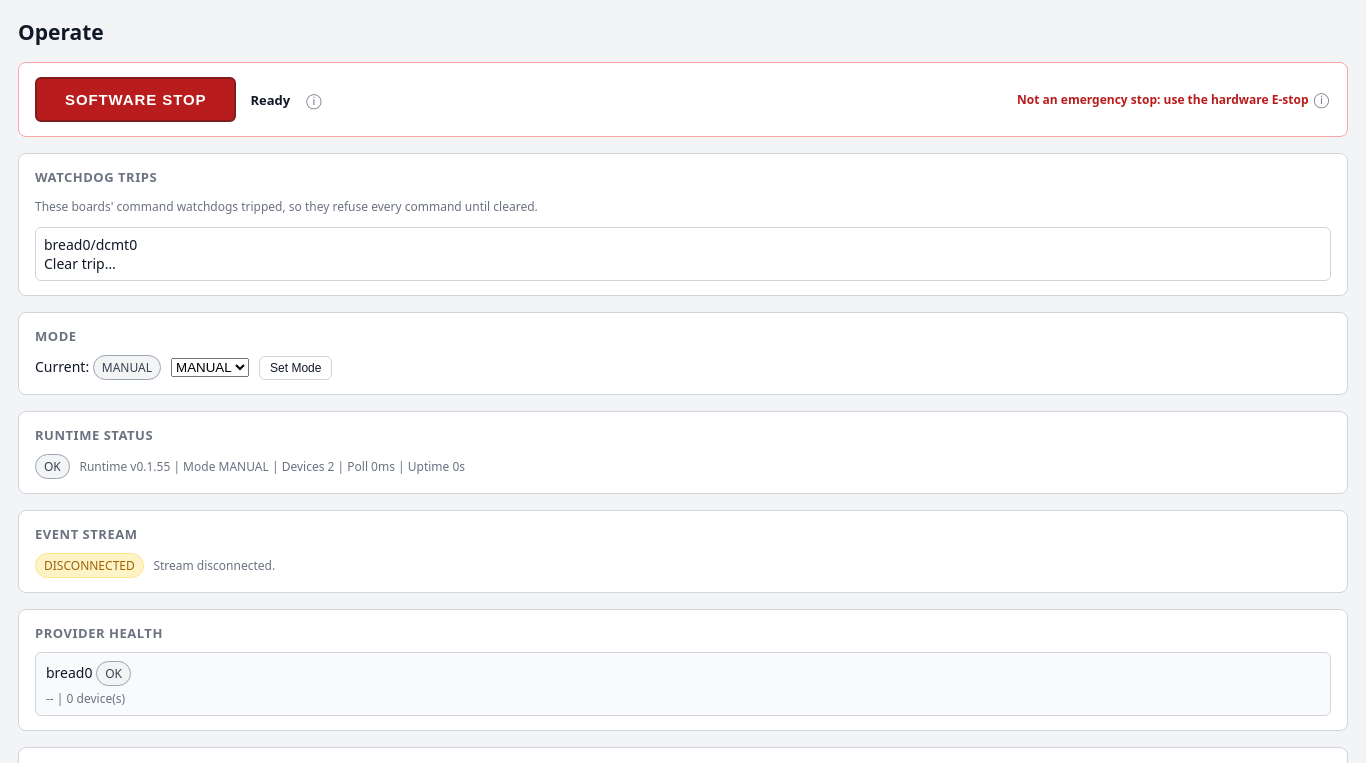
Test case: Operate.svelte — a guided clear for watchdog-tripped boards (wb#572) › can leave the brakes on
What coordinates should you click on to do the following:
click the button with aria-label "Clear the watchdog trip on bread0/dcmt0…"
I would click on:
 (80, 264)
Its box is top-left (44, 254), bottom-right (1322, 273).
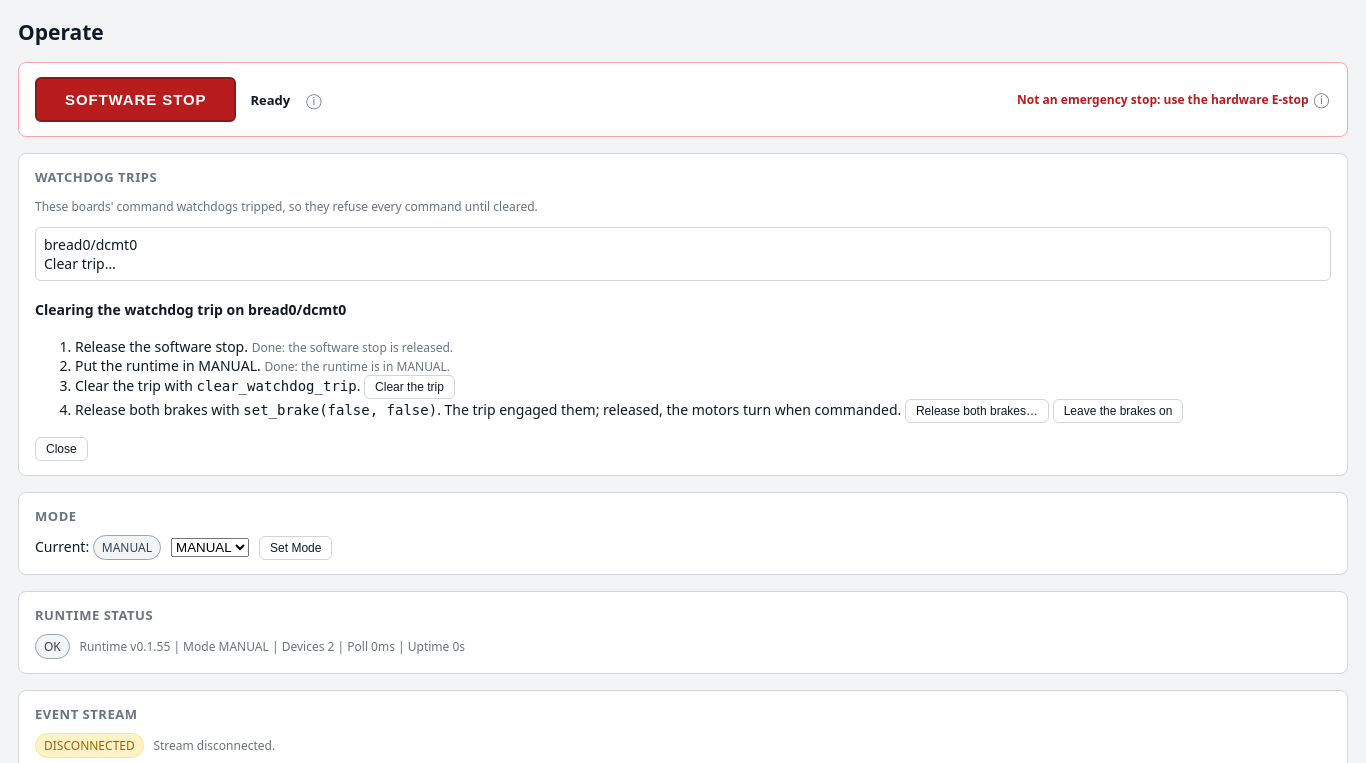
expect the button "Clear the trip" is enabled: met
What coordinates should you click on to do the following:
click the button "Clear the trip"
I would click on:
 (409, 387)
Its box is top-left (364, 375), bottom-right (455, 399).
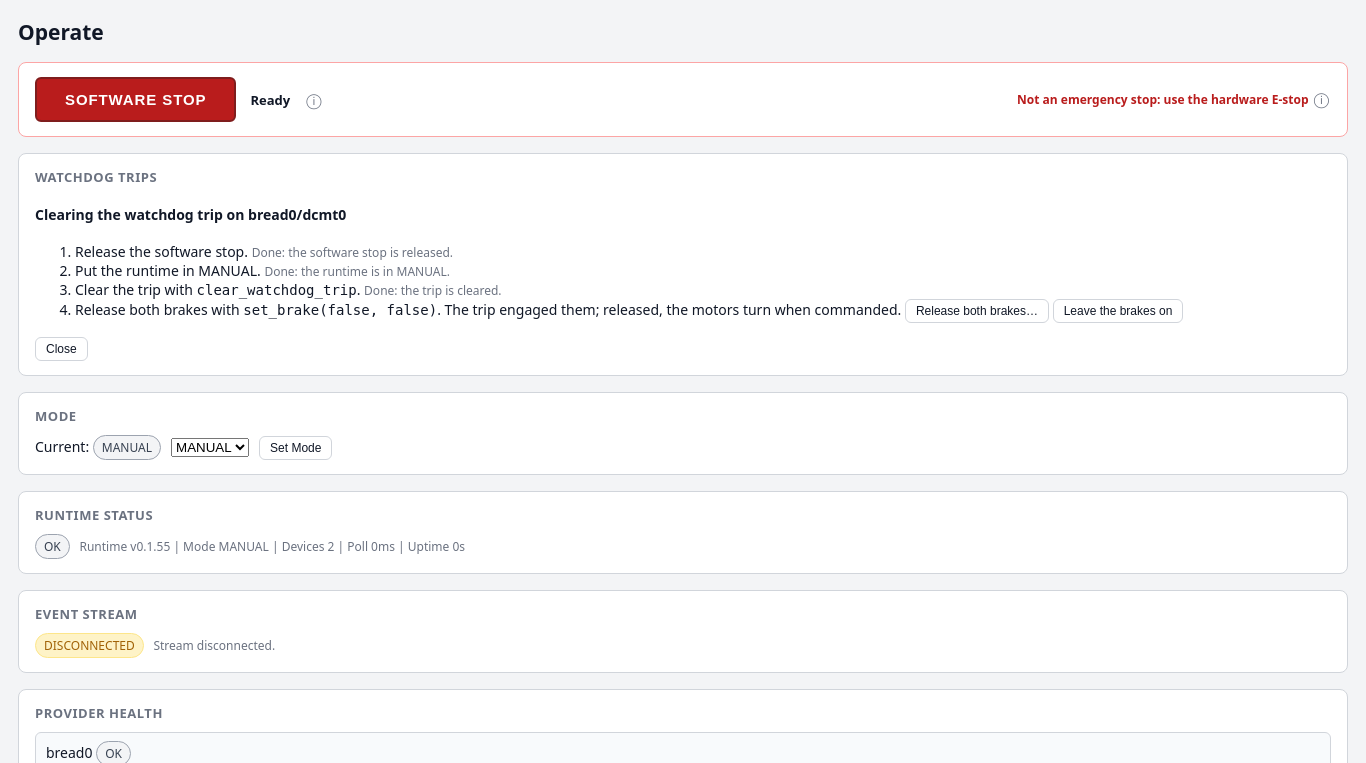
expect the list item with test id "trip-step-3" shows "Done": met, box top-left (364, 282), bottom-right (502, 299)
expect the button "Leave the brakes on" is enabled: met
What coordinates should you click on to do the following:
click the button "Leave the brakes on"
I would click on:
 (1118, 311)
Its box is top-left (1053, 299), bottom-right (1183, 323).
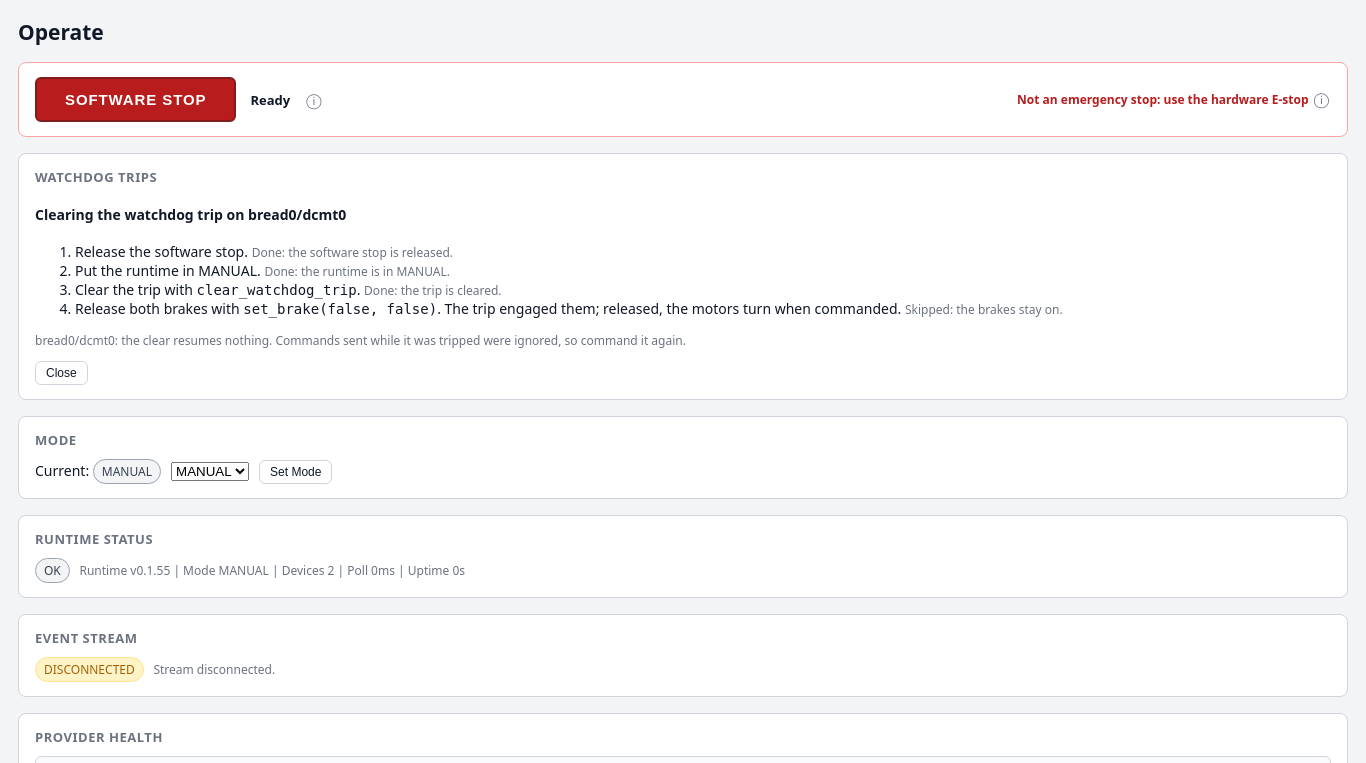
expect the list item with test id "trip-step-4" shows "Skipped": met, box top-left (905, 301), bottom-right (1063, 318)
